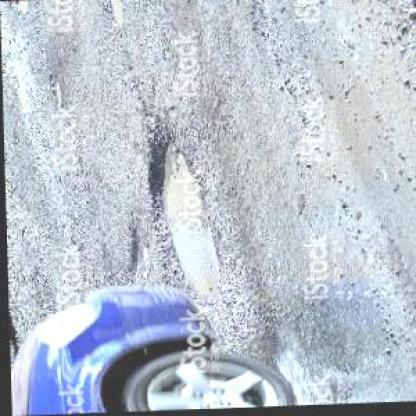pothole: (142, 123, 224, 308), (104, 0, 126, 31)
